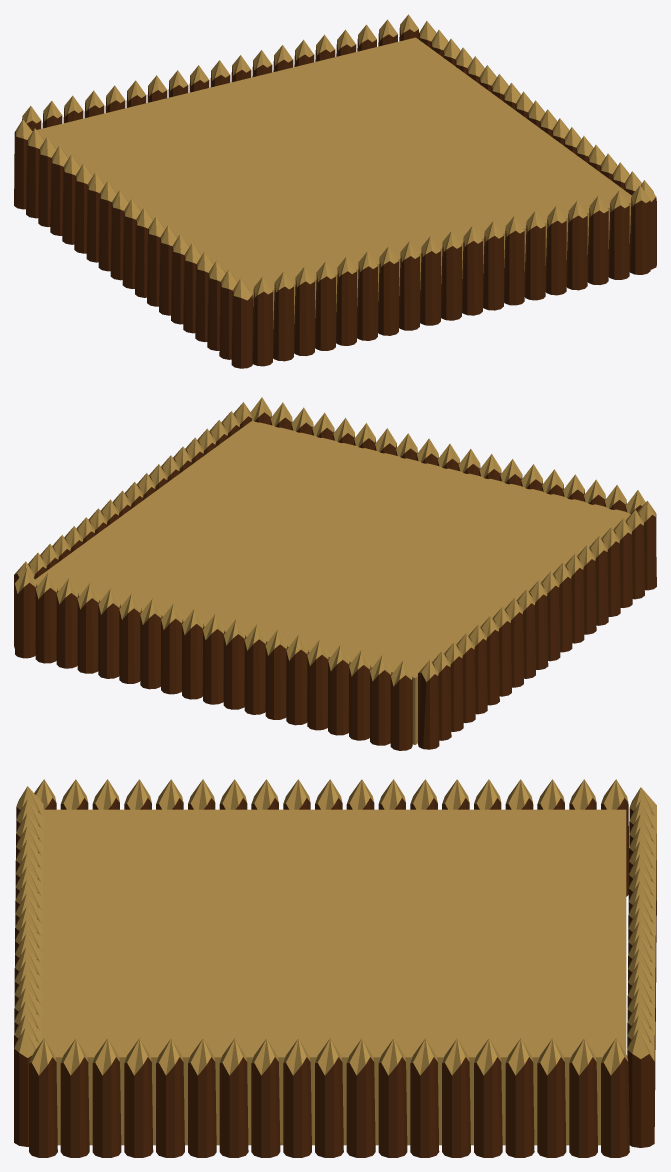
Rendered from platform.fbx.
3 renders of one model, top to bottom at view 1: azimuth 30°, elevation 25°; view 2: azimuth 150°, elevation 25°; view 3: azimuth 270°, elevation 25°, orthographic. The views are drawn at different scales.
Visible parts, largest first — view 1: towertile, platform_border.001, platform_border; view 2: towertile, platform_border.001, platform_border; view 3: towertile, platform_border, platform_border.001.
Part boxes in pixels (<box>): towertile: <box>32,37,631,328</box>; platform_border.001: <box>22,14,650,366</box>; platform_border: <box>14,21,656,368</box>; towertile: <box>35,420,630,744</box>; platform_border.001: <box>15,397,645,750</box>; platform_border: <box>14,402,656,749</box>; towertile: <box>40,809,626,1145</box>; platform_border: <box>29,779,629,1157</box>; platform_border.001: <box>14,786,656,1147</box>.
Bounding box in the file's own units: 3.72 × 3.73 × 0.744.
